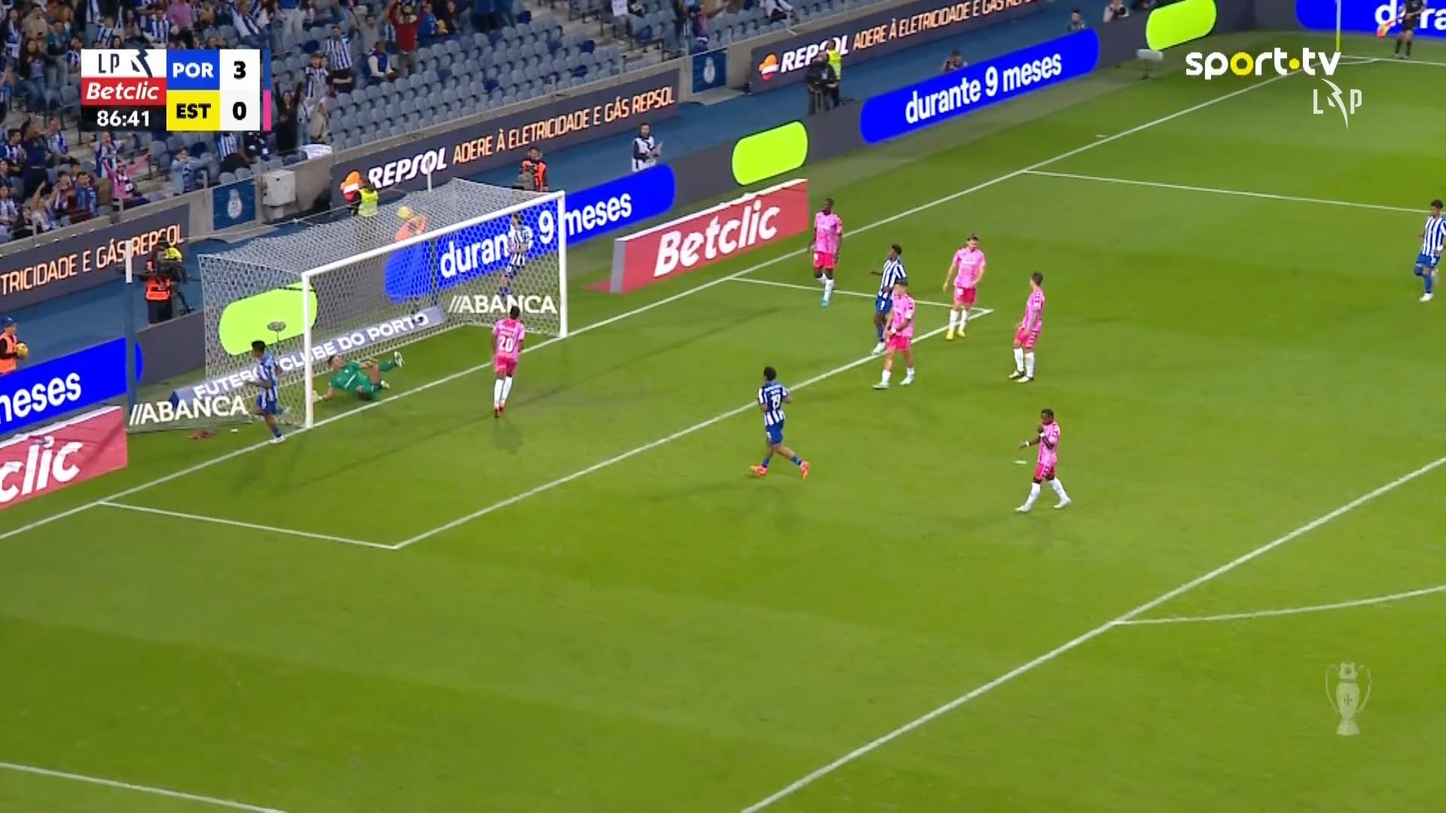goalkeeper: (316, 349, 403, 402)
player: (748, 365, 810, 480), (1014, 407, 1072, 513), (871, 281, 917, 388), (941, 233, 986, 340), (242, 339, 288, 443), (385, 206, 430, 312), (870, 242, 908, 355), (488, 304, 525, 418), (1008, 270, 1045, 382), (807, 196, 843, 307), (496, 211, 533, 301), (1413, 199, 1444, 302)
referee: (1390, 0, 1424, 59)
